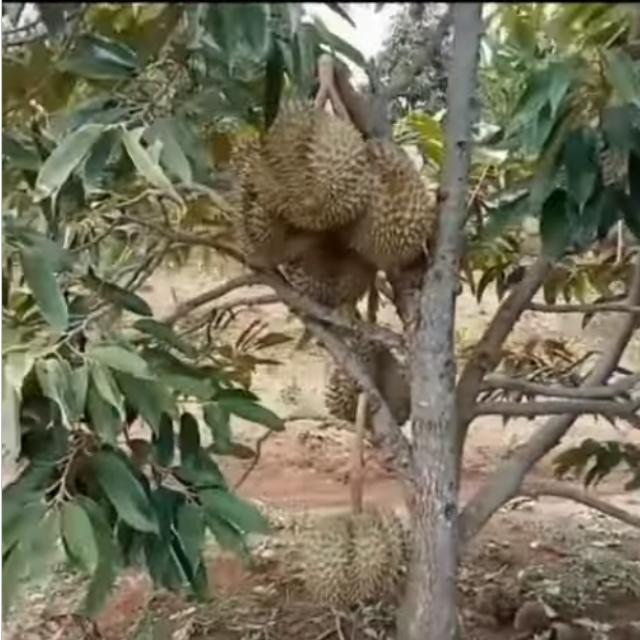mature: (247, 102, 374, 239), (330, 134, 434, 272), (297, 500, 408, 614)
